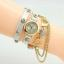watch: (21, 17, 44, 39)
